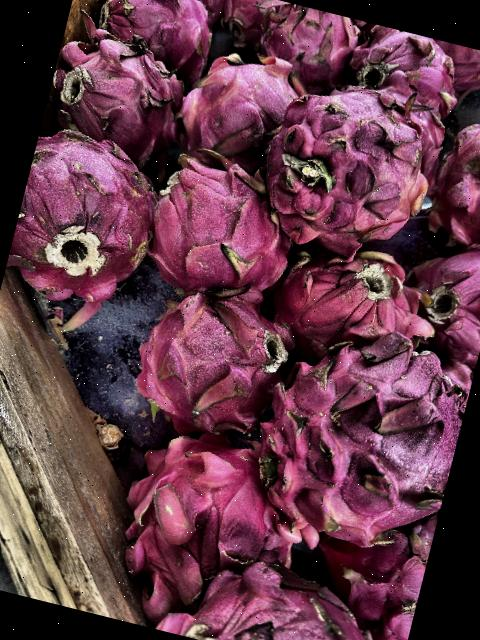buah-naga-belum-matang: (163, 36, 308, 170)
buah-naga-matang: (229, 292, 480, 589), (102, 412, 319, 616), (246, 61, 456, 266), (0, 110, 177, 327), (116, 272, 306, 461), (124, 134, 317, 314), (266, 233, 450, 374), (38, 19, 186, 168), (344, 21, 474, 122), (81, 0, 229, 87), (241, 0, 364, 90), (415, 90, 480, 253)
